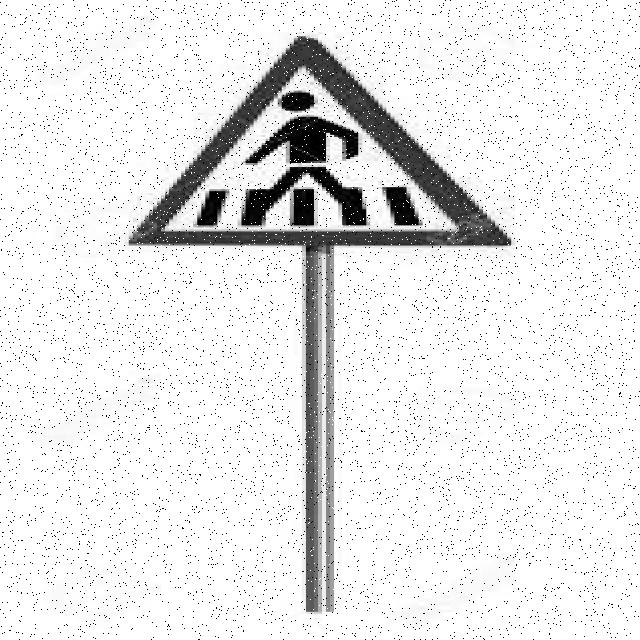Pedestrain_crossing: (133, 37, 518, 244)
